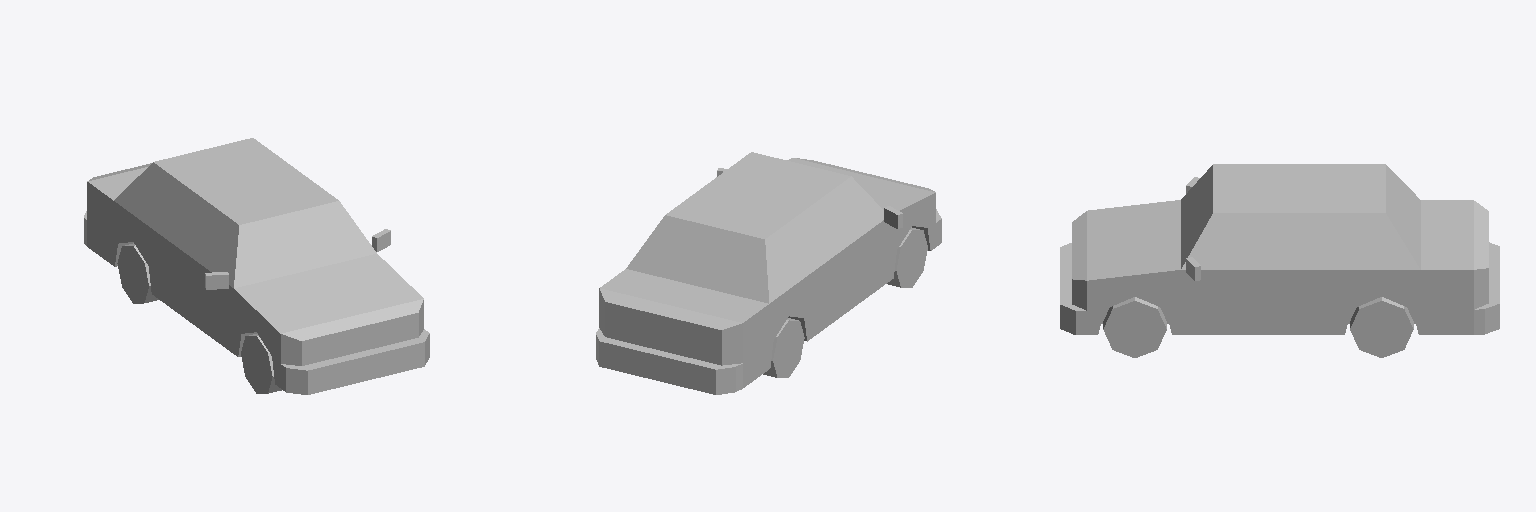
Rendered from sedan_01_yellow.obj.
3 views of the same model, side by side, from view 1: azimuth 30°, elevation 25°; view 2: azimuth 150°, elevation 25°; view 3: azimuth 270°, elevation 25° (orthographic).
Visible parts, largest first — view 1: Sedan_01_Yellow, Wheel_RR, Wheel_FR; view 2: Sedan_01_Yellow, Wheel_FR, Wheel_RR; view 3: Sedan_01_Yellow, Wheel_FL, Wheel_RL.
Part boxes in pixels (bbox=[...]): Sedan_01_Yellow: bbox=[84, 138, 429, 394]; Wheel_RR: bbox=[117, 243, 158, 303]; Wheel_FR: bbox=[241, 334, 281, 393]; Sedan_01_Yellow: bbox=[596, 152, 941, 394]; Wheel_FR: bbox=[887, 227, 927, 287]; Wheel_RR: bbox=[763, 318, 804, 377]; Sedan_01_Yellow: bbox=[1060, 164, 1499, 334]; Wheel_FL: bbox=[1103, 297, 1166, 357]; Wheel_RL: bbox=[1350, 297, 1413, 357].
Bounding box in the file's own units: 0.9785 × 0.6816 × 2.02.